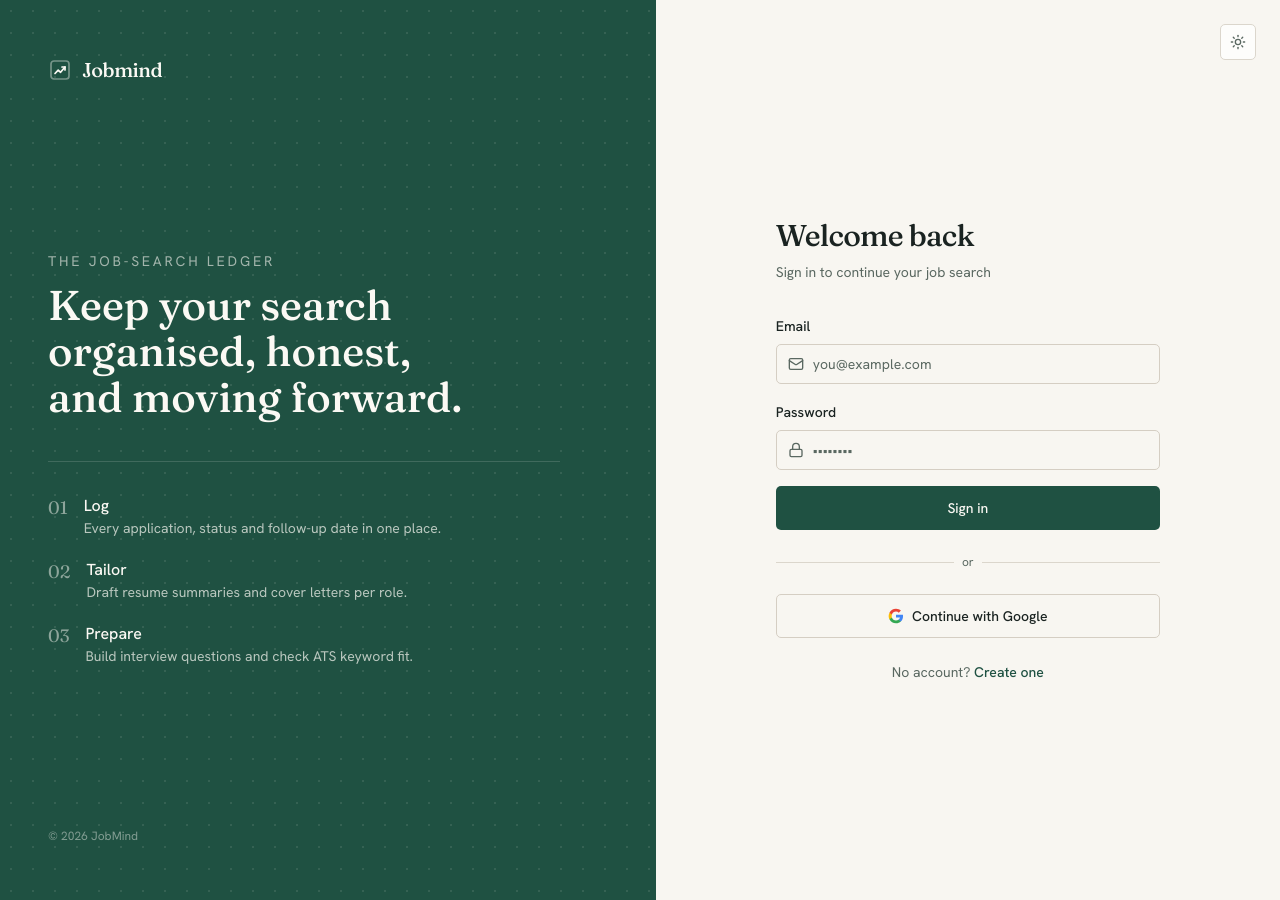
Test case: Login Component › should show validation error for invalid email
The width and height of the screenshot is (1280, 900).
Type "notanemail" into the field labelled "Email" at (968, 364), box [776,344,1160,384]
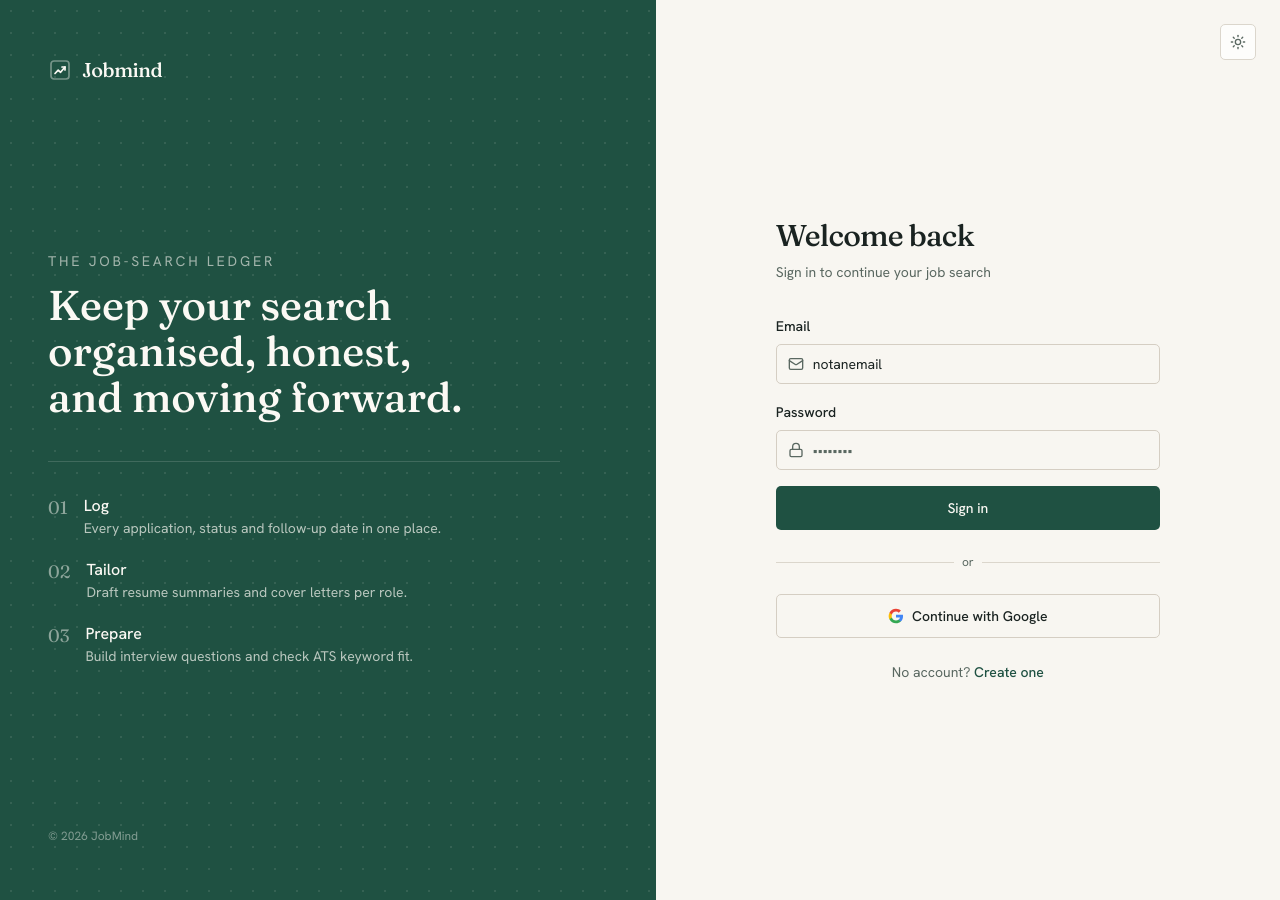
Submit the form from the button "Sign in", box [776,486,1160,530]
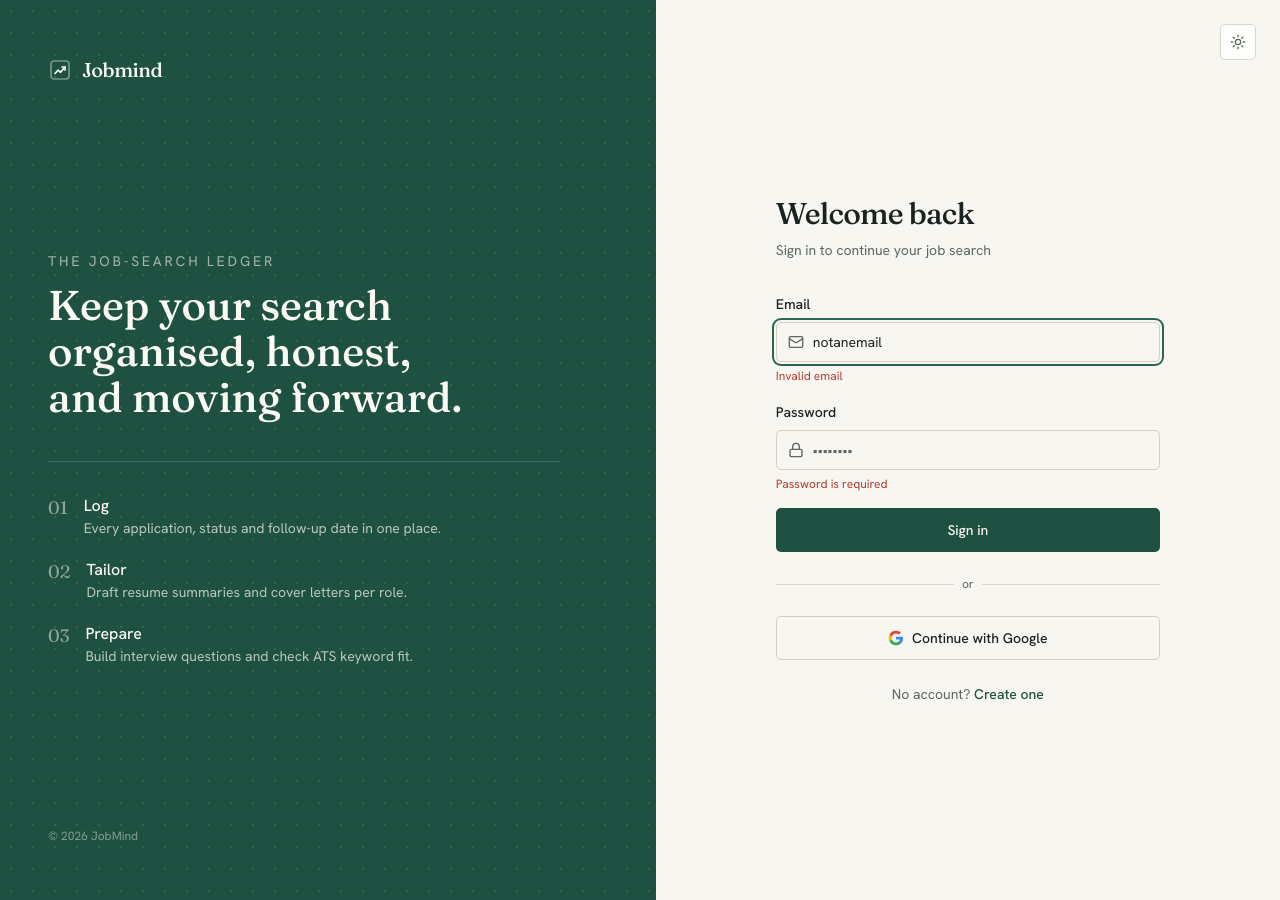
Result: the text "Invalid email" is shown at [776,368,843,384]
